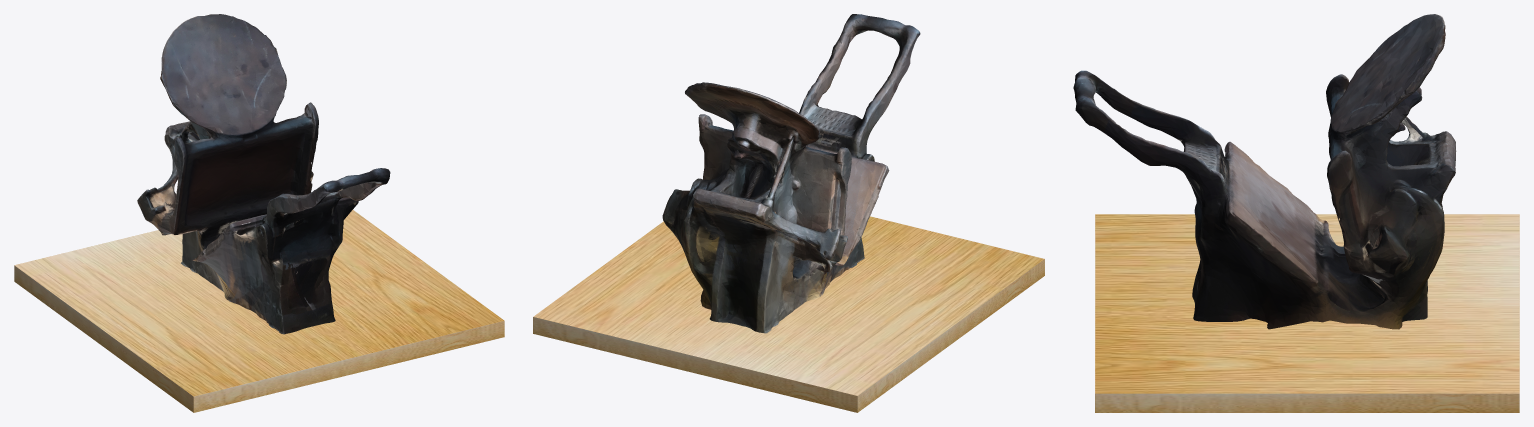
File: press.glb
3 renders of one model, left to right at view 1: azimuth 30°, elevation 25°; view 2: azimuth 150°, elevation 25°; view 3: azimuth 270°, elevation 25°, orthographic. The views are drawn at different scales.
Parts seen in each view (by area): view 1: Mesh_0, press; view 2: Mesh_0, press; view 3: Mesh_0, press.
Boxes of the visible parts, x1,y1,x2,y2 form: Mesh_0: (14, 210, 504, 412); press: (137, 14, 390, 334); Mesh_0: (533, 216, 1044, 412); press: (662, 14, 920, 333); Mesh_0: (1095, 214, 1519, 412); press: (1073, 14, 1456, 329).
Size of the model in its own units: 2 by 1.55 by 2.1.
Materials: 2 (2 with a texture image).
